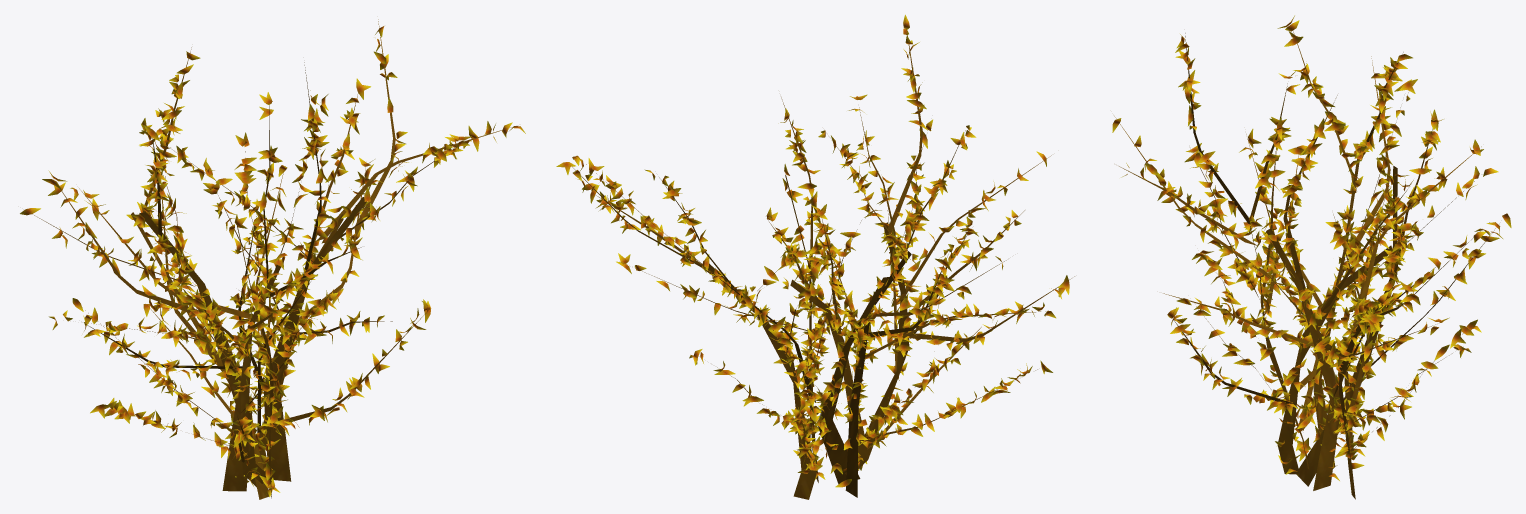
The model's file is bush1_quest.glb.
3 views of the same model, side by side, from view 1: azimuth 30°, elevation 25°; view 2: azimuth 150°, elevation 25°; view 3: azimuth 270°, elevation 25° (orthographic). The views are drawn at different scales.
Parts seen in each view (by area): view 1: Forsythia_standardSurface2_0; view 2: Forsythia_standardSurface2_0; view 3: Forsythia_standardSurface2_0.
Boxes of the visible parts, bbox=[...] form: Forsythia_standardSurface2_0: bbox=[20, 19, 525, 499]; Forsythia_standardSurface2_0: bbox=[556, 14, 1074, 499]; Forsythia_standardSurface2_0: bbox=[1112, 15, 1511, 499].
Size of the model in its own units: 0.2126 by 0.1884 by 0.1506.
1 material, 1 textured.
